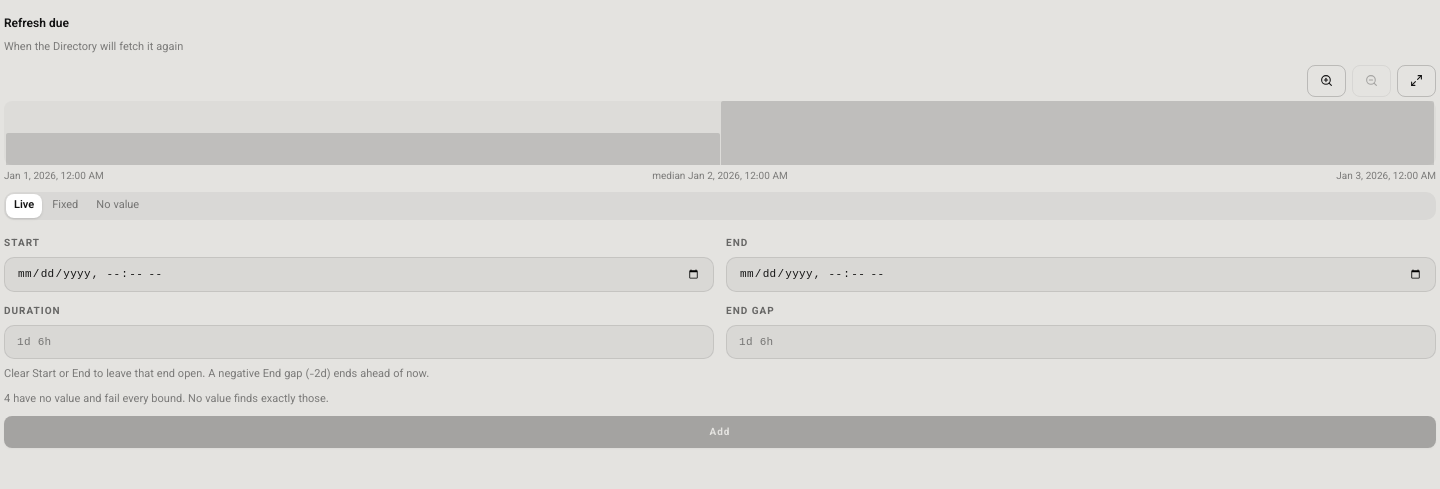
Scenario: the Time bound editor › an End before the Start is refused, and cannot be added
Click the button "Fixed": (65, 206) [44, 194, 86, 218]
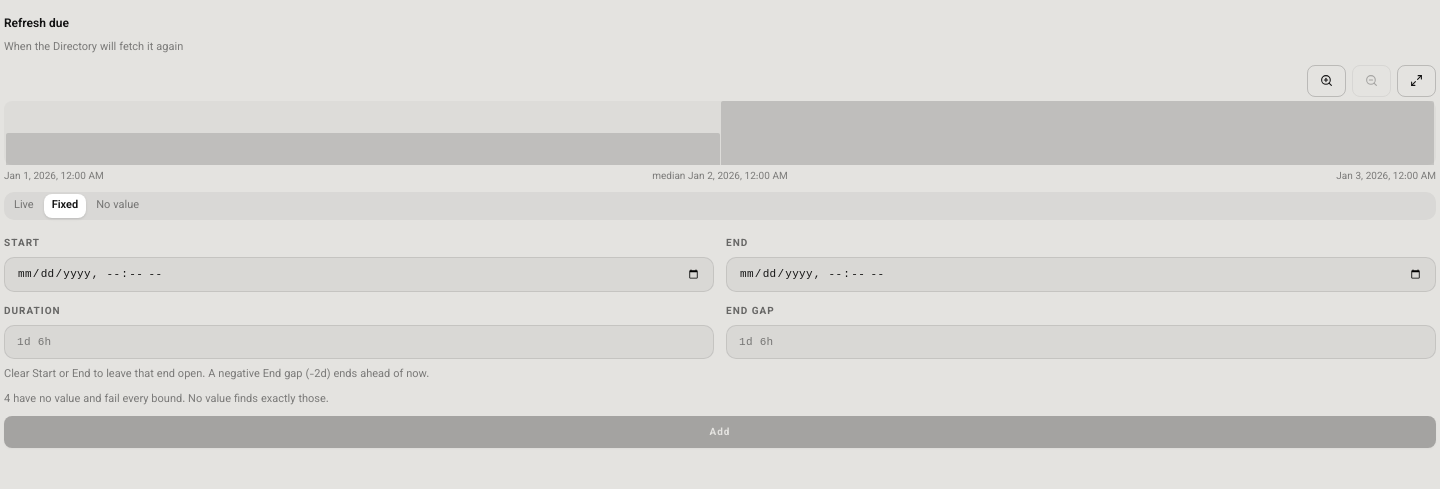
In the field labelled "Start": (359, 274) [4, 257, 714, 292], type "2026-10-10T00:00"
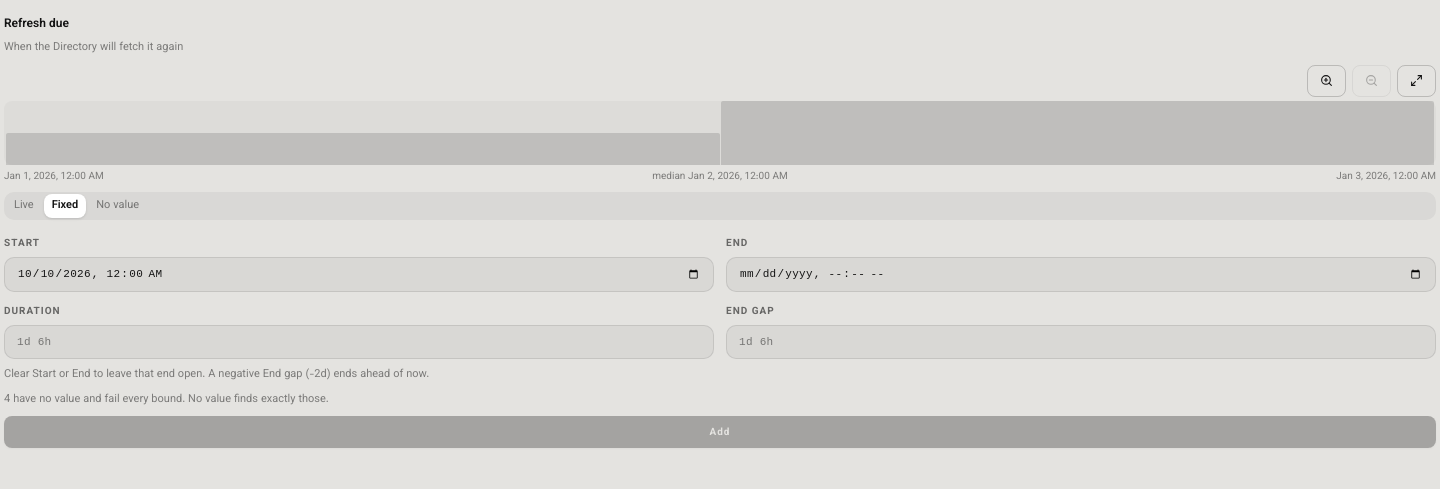
Press Enter in the field labelled "Start", box [4, 257, 714, 292]
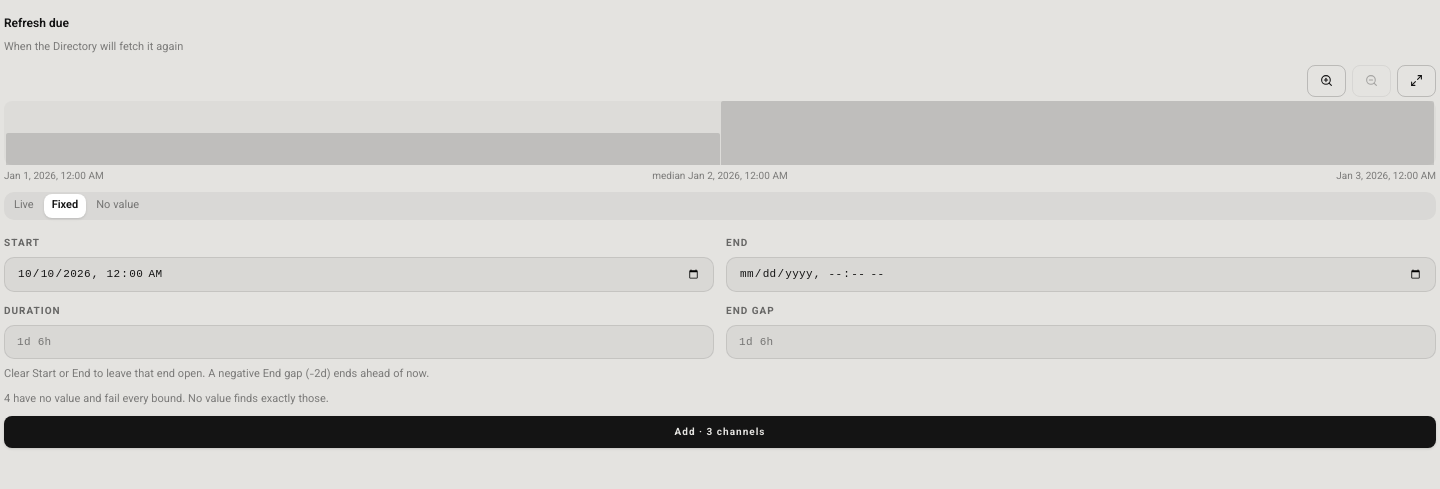
In the field labelled "End": (1081, 274) [726, 257, 1436, 292], type "2026-10-01T00:00"
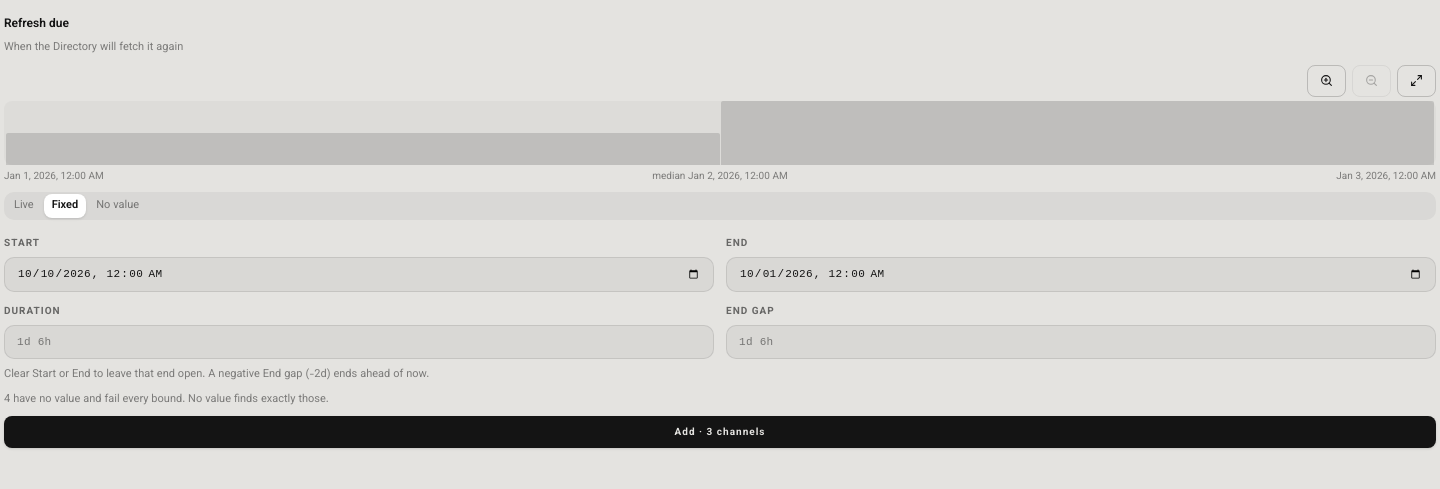
Press Enter in the field labelled "End", box [726, 257, 1436, 292]
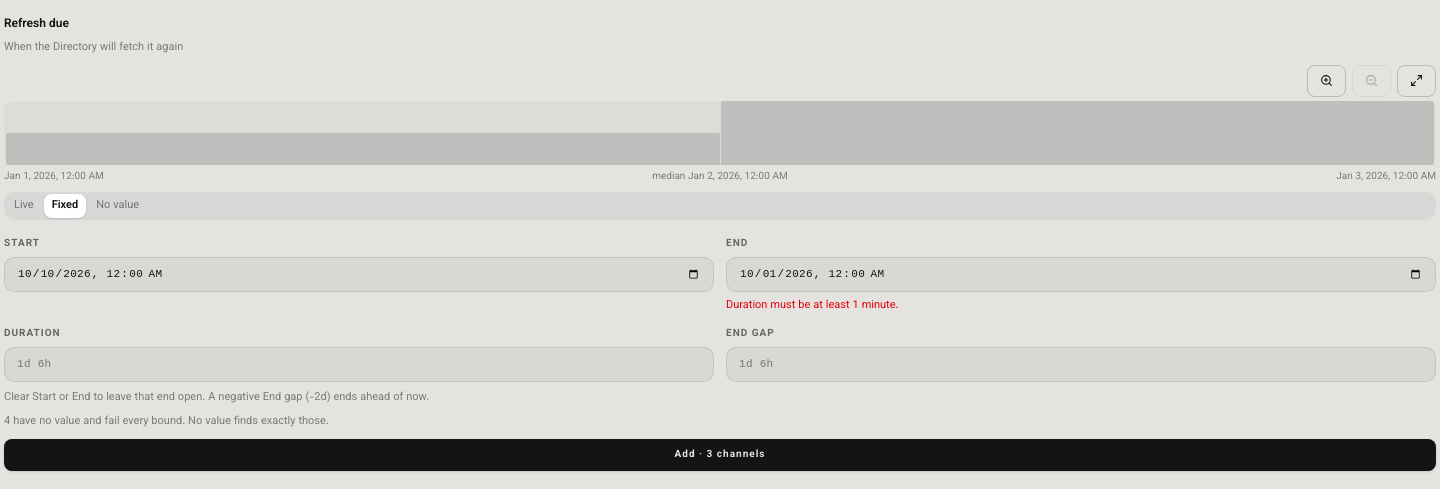
Expected: the message reads "Duration must be at least 1 minute.", [726, 296, 898, 314]
